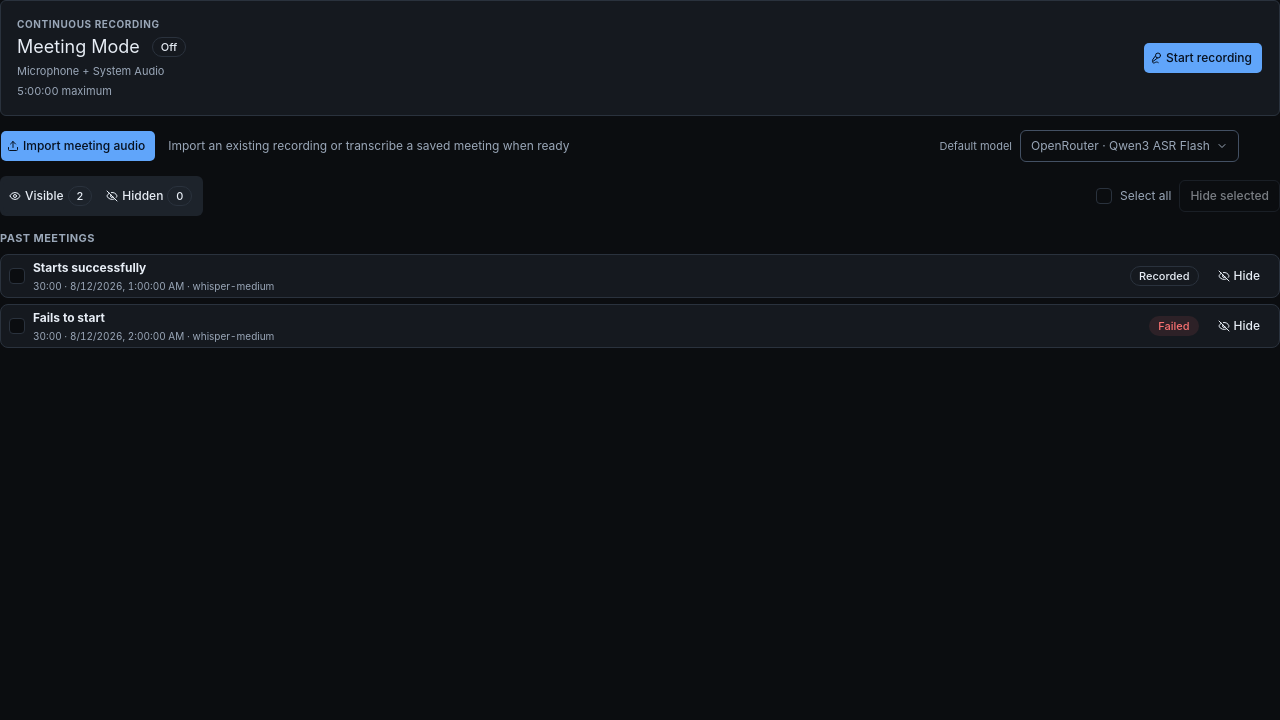
Test case: MeetingTranscriptionPanel permission preflight › keeps only failed meetings selected after a partial bulk start
Click the checkbox named "Select Starts successfully" at (17, 276), box [9,268,25,284]
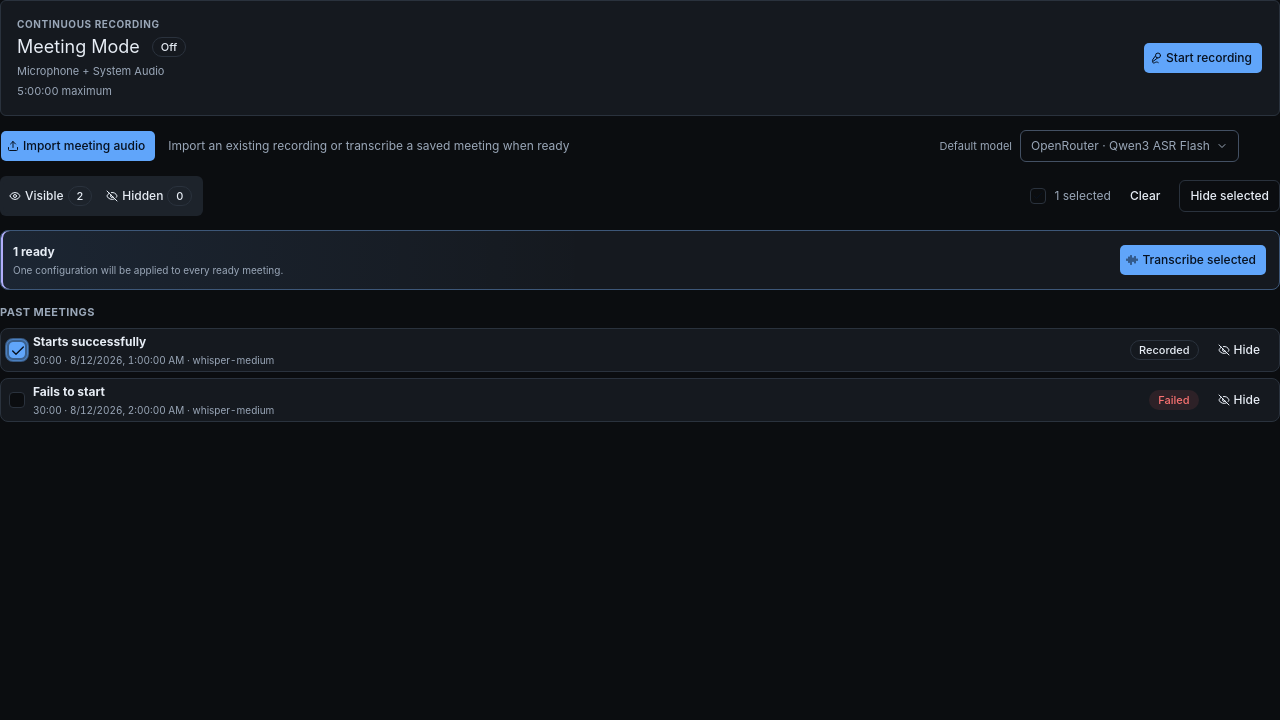
Click the checkbox named "Select Fails to start" at (17, 400), box [9,392,25,408]
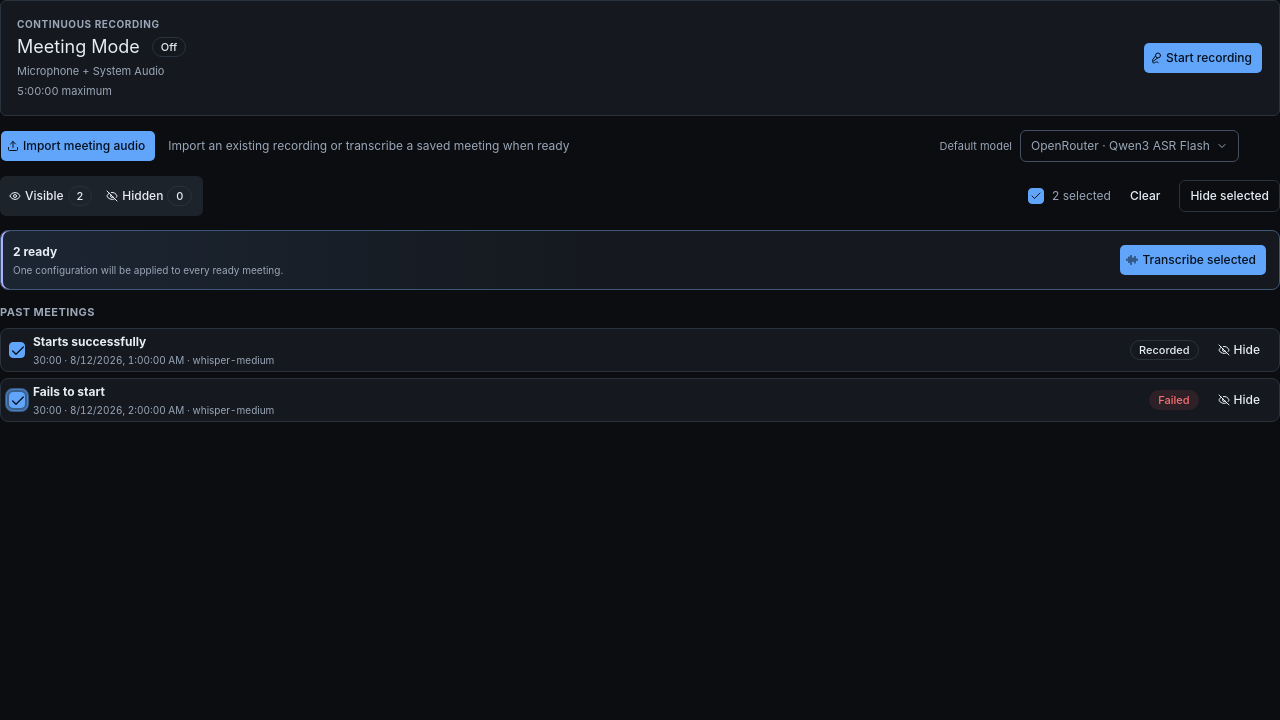
Click the button "Transcribe selected" at (1193, 260), box [1120,244,1267,276]
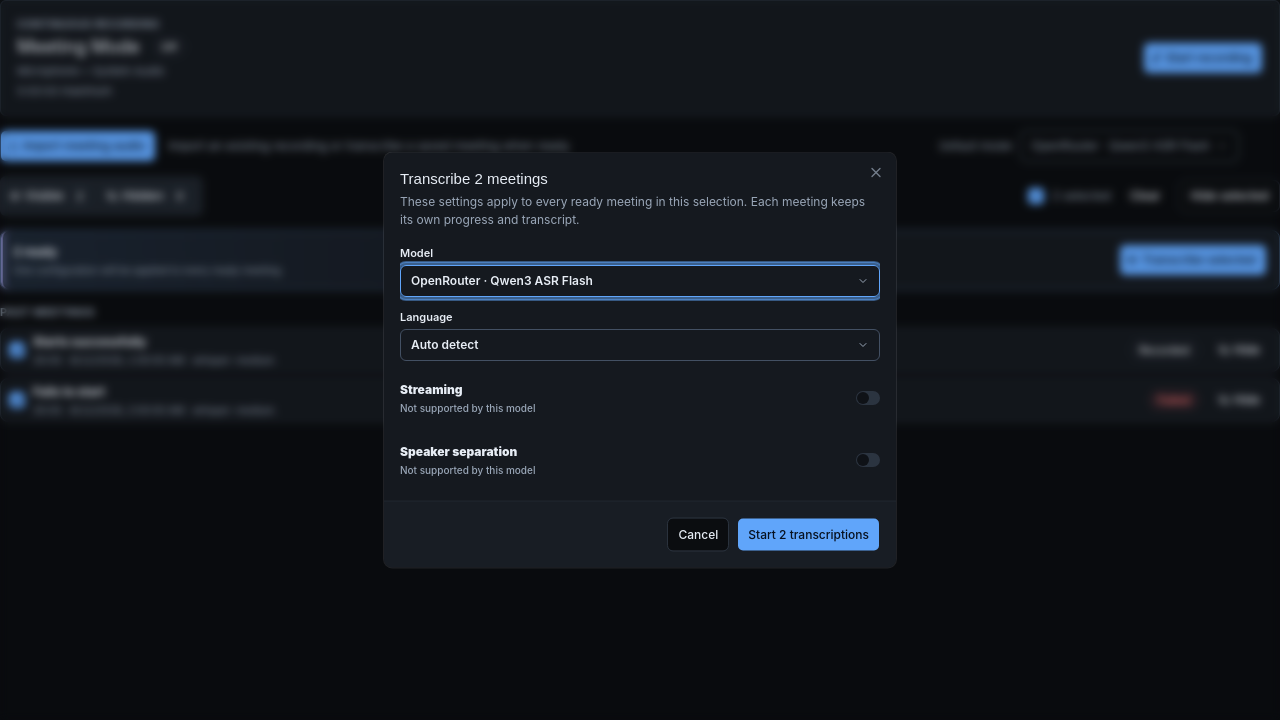
Click the button "Start 2 transcriptions" at (809, 534), box [737,518,880,552]
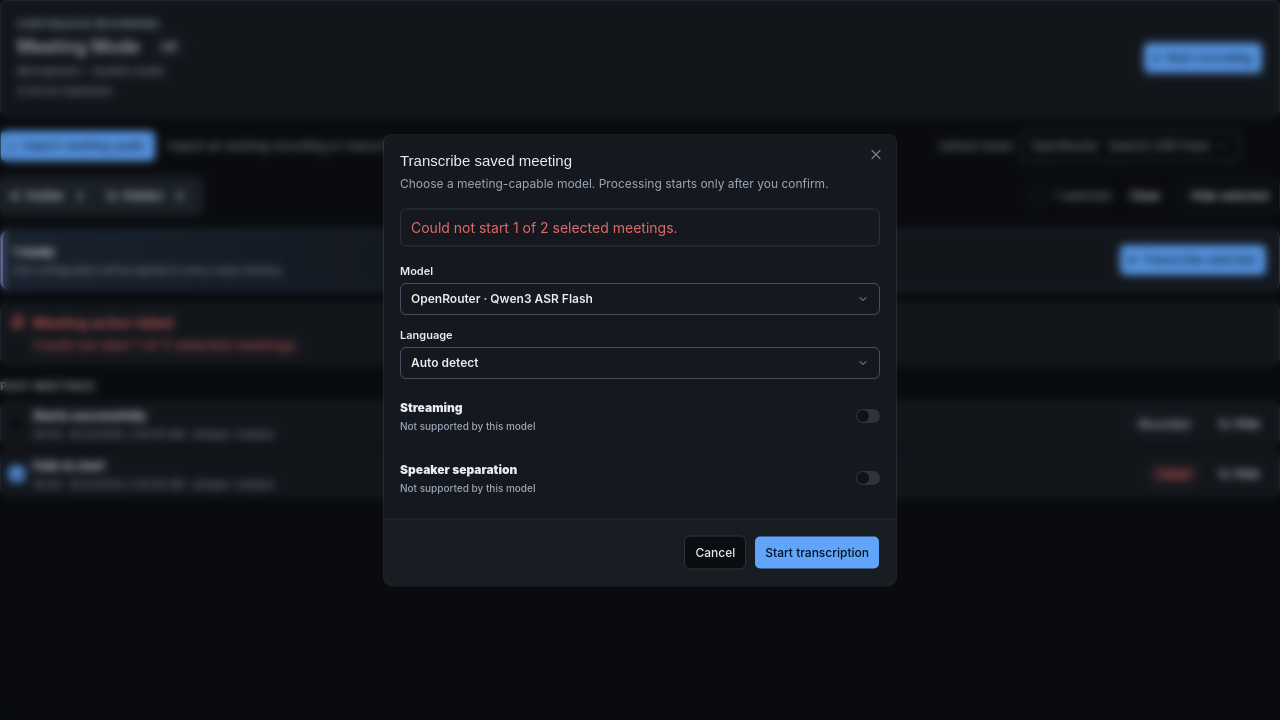
Expected: the dialog is shown, [384,134,896,586]
Expected: the text "Could not start 1 of 2 selected meetings." is shown, [411,218,678,236]
